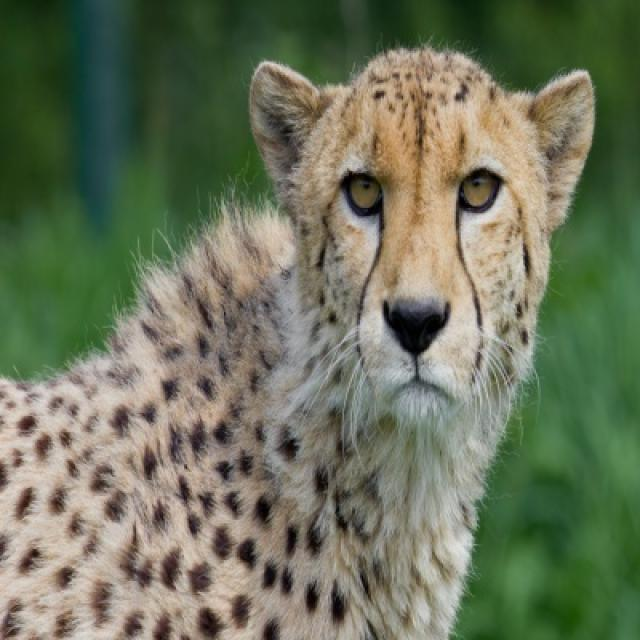Cheetah: (0, 46, 597, 638)
